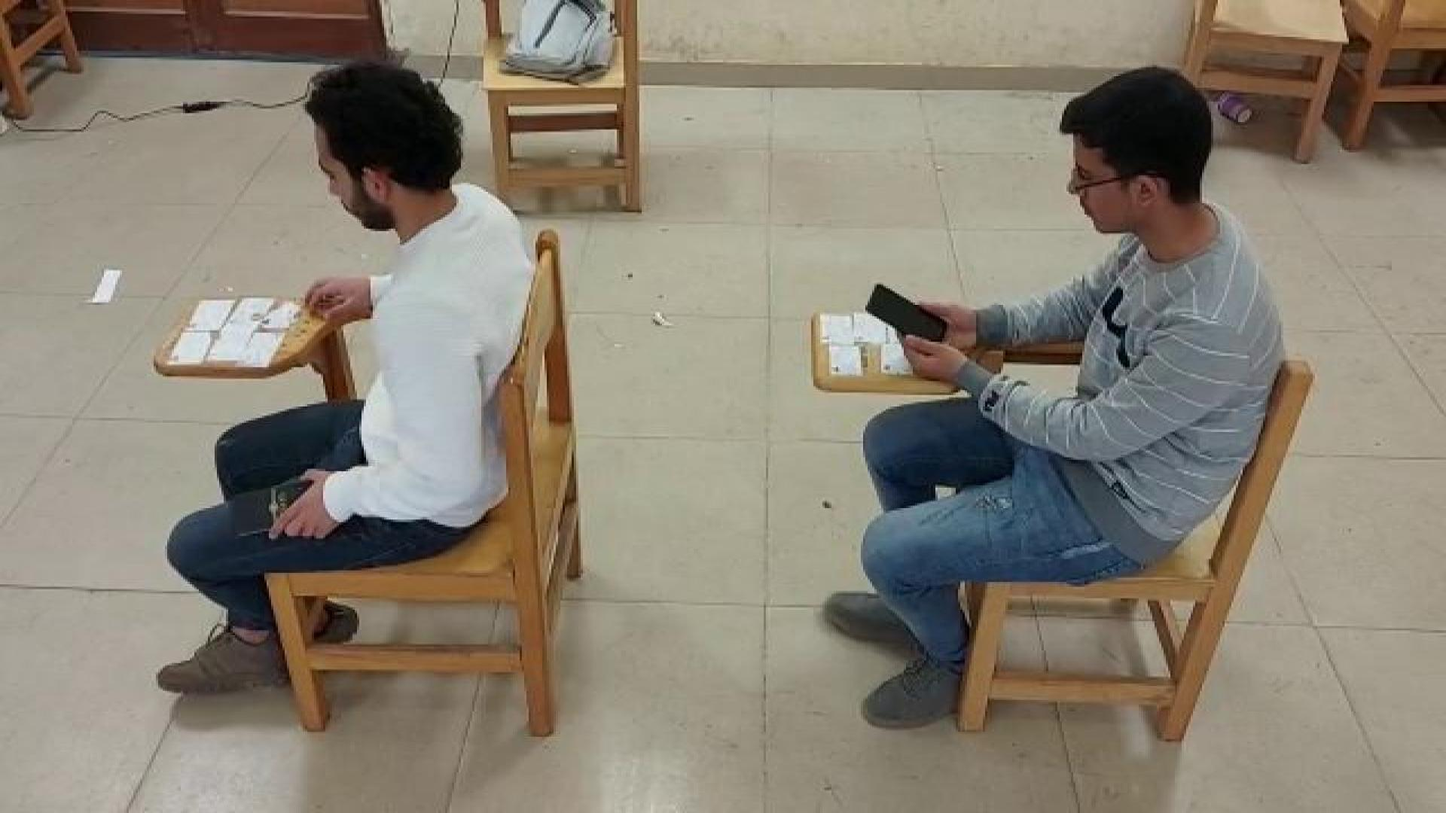phone: (228, 476, 323, 534), (865, 284, 947, 337)
